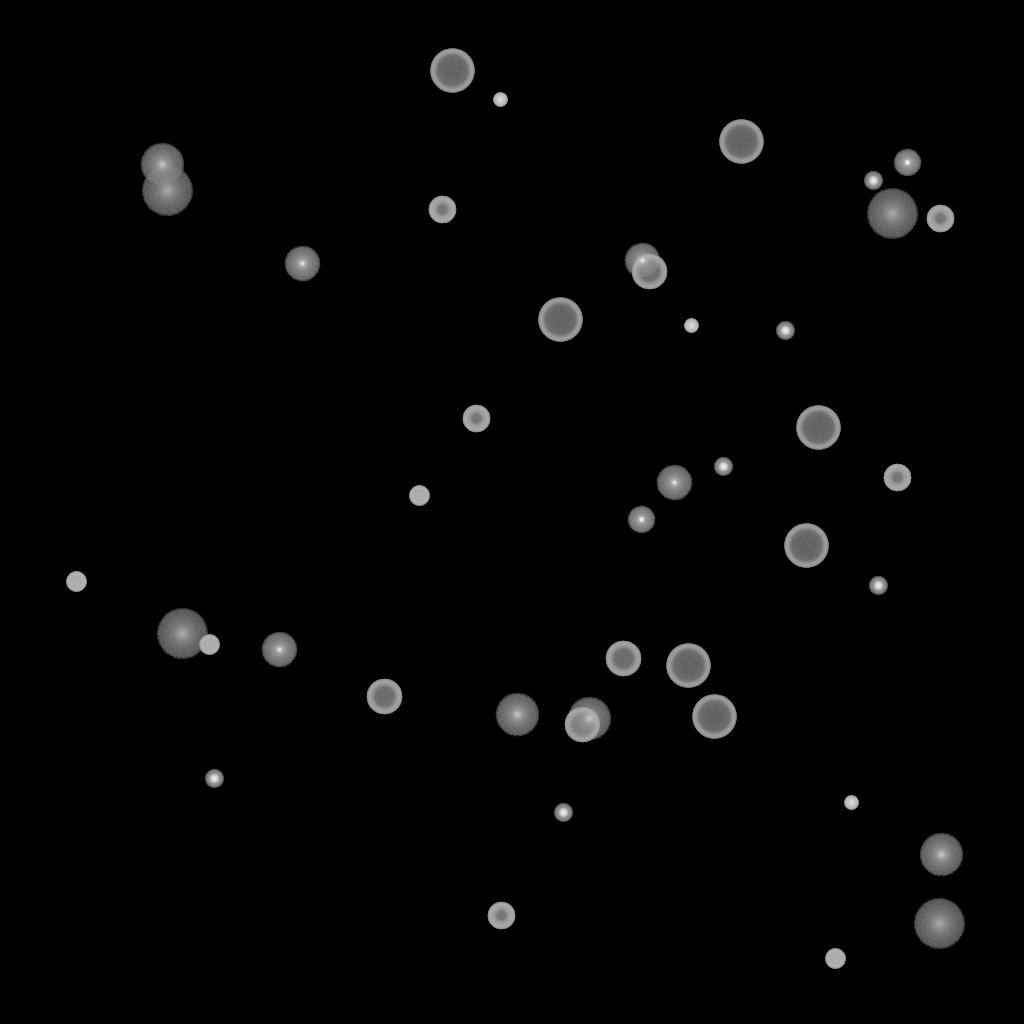depth:-10: (893, 149, 921, 177), (627, 506, 655, 534)
depth:-20: (776, 322, 794, 340), (554, 804, 572, 822), (205, 770, 223, 788), (714, 458, 732, 476), (864, 172, 882, 190), (869, 577, 887, 595)
depth:-30: (684, 319, 698, 333), (493, 93, 507, 107), (844, 796, 858, 810)
depth:-40: (199, 635, 219, 655), (409, 486, 429, 506), (66, 572, 86, 592), (825, 949, 845, 969)
depth:-50: (487, 902, 515, 930), (926, 205, 954, 233), (883, 464, 911, 492), (428, 196, 456, 224), (462, 405, 490, 433)
depth:-60: (366, 679, 402, 715), (605, 641, 641, 677), (564, 707, 600, 743), (631, 254, 667, 290)
depth:-70: (666, 644, 710, 688), (796, 406, 840, 450), (430, 49, 474, 93), (538, 298, 582, 342), (692, 695, 736, 739), (719, 120, 763, 164), (784, 524, 828, 568)
depth:0: (261, 632, 297, 668), (284, 246, 320, 282), (656, 465, 692, 501), (624, 243, 660, 279)
depth:10: (495, 693, 539, 737), (919, 833, 963, 877), (567, 697, 611, 741), (140, 143, 184, 187)
depth:20: (913, 899, 965, 949), (156, 609, 208, 659), (866, 189, 918, 239), (141, 166, 193, 216)
